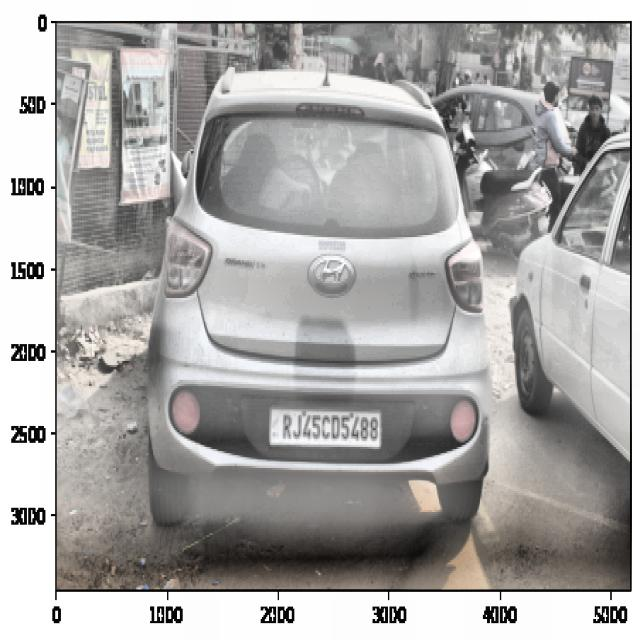license_plate: (277, 408, 382, 450)
